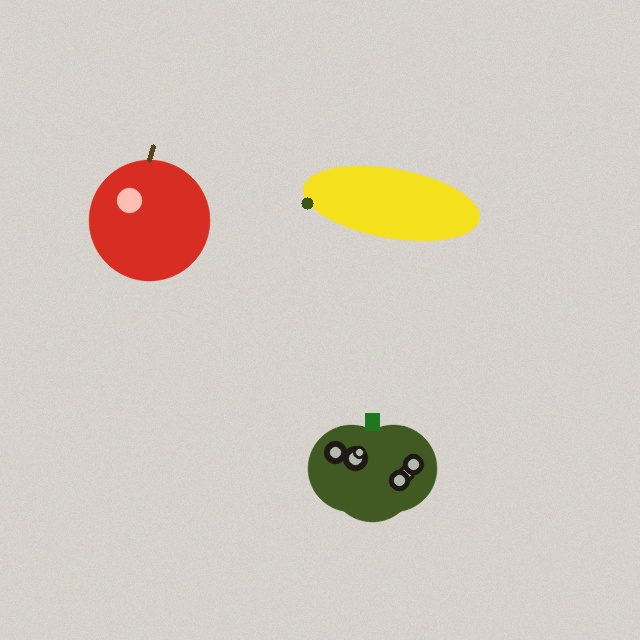Fresh apple: (89, 146, 209, 280)
Fresh banana: (298, 161, 484, 245)
Rotten bell pepper: (308, 413, 436, 521)
